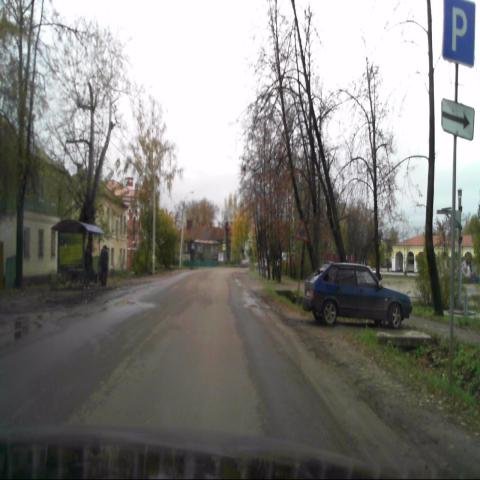8_3_1: (442, 98, 475, 140)
